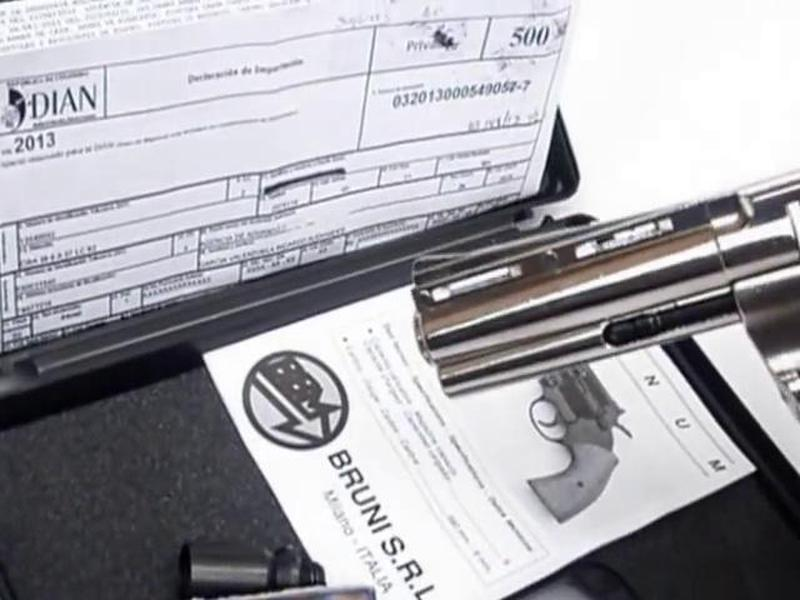Revolver: (394, 141, 800, 420)
